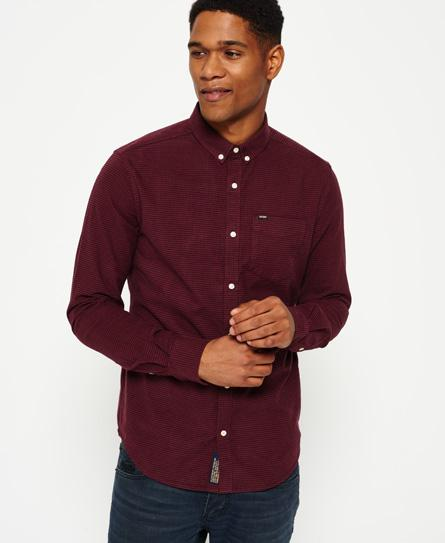teeshirt: (67, 100, 353, 496)
